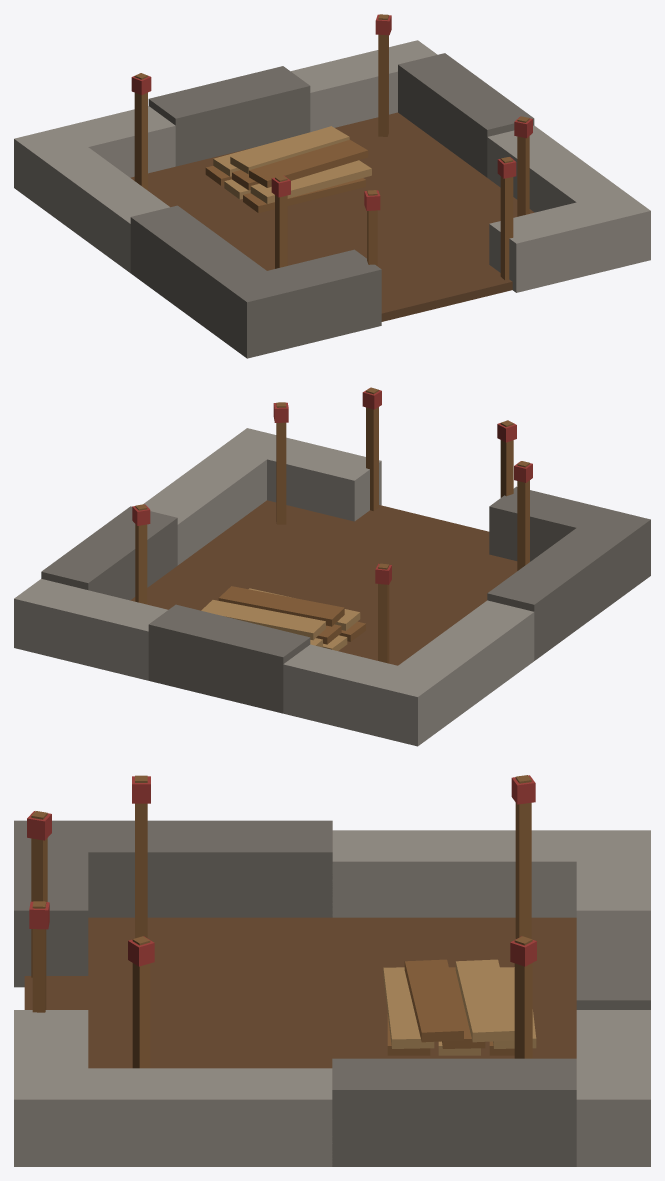
File: site_3x3_1.glb
3 renders of one model, top to bottom at view 1: azimuth 30°, elevation 25°; view 2: azimuth 150°, elevation 25°; view 3: azimuth 270°, elevation 25°, orthographic. The views are drawn at different scales.
Parts seen in each view (by area): view 1: site_3x3_1; view 2: site_3x3_1; view 3: site_3x3_1.
Part boxes in pixels (x1,y1,x2,y2): site_3x3_1: (14,14,650,358); site_3x3_1: (14,387,650,746); site_3x3_1: (14,775,650,1166).
Size of the model in its own units: 3 by 0.9 by 3.
